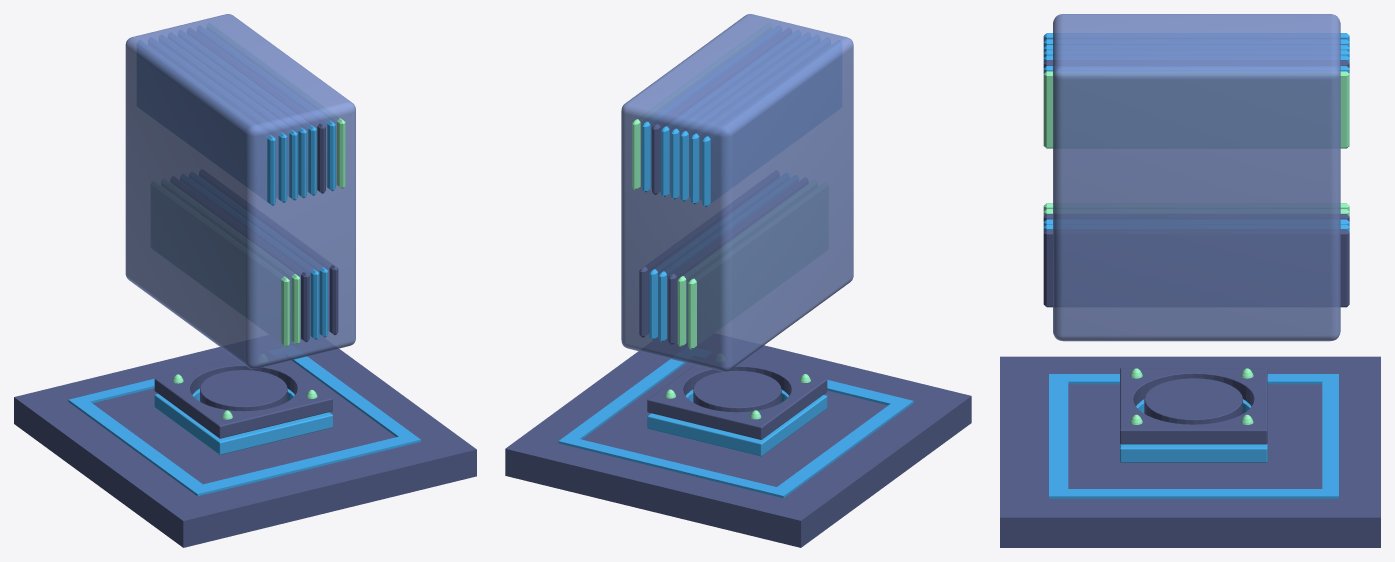
3 renders of one model, left to right at view 1: azimuth 30°, elevation 25°; view 2: azimuth 150°, elevation 25°; view 3: azimuth 270°, elevation 25°, orthographic. The views are drawn at different scales.
Parts seen in each view (by area): view 1: 外机箱, 大底台, 上层, 底部方框, 下层, 立方体.15_12, 立方体.13_12, recta2, 立方体.7_12, 立方体.14_12, 立方体.12_12, 立方体.3_12 (+7 smaller); view 2: 外机箱, 大底台, 上层, 底部方框, 下层, 立方体.7_12, recta2, recta1, 立方体.12_12, 立方体.15_12, 立方体.2_12, 立方体.4_12 (+7 smaller); view 3: 外机箱, 大底台, 上层, 底部方框, 下层, 立方体.15_12, recta3.
Boxes of the visible parts, box(x1,y1,x2,y2) form: 外机箱: box(125, 14, 355, 369); 大底台: box(14, 347, 476, 547); 上层: box(154, 358, 332, 438); 底部方框: box(68, 356, 420, 496); 下层: box(154, 388, 332, 454); 立方体.15_12: box(329, 264, 338, 335); 立方体.13_12: box(310, 269, 319, 339); recta2: box(291, 274, 300, 344); 立方体.7_12: box(278, 132, 287, 202); 立方体.14_12: box(319, 267, 328, 337); 立方体.12_12: box(301, 271, 309, 342); 立方体.3_12: box(317, 123, 325, 193); 外机箱: box(621, 14, 853, 371); 大底台: box(505, 345, 971, 547); 上层: box(647, 359, 827, 439); 底部方框: box(558, 359, 913, 498); 下层: box(647, 389, 827, 456); 立方体.7_12: box(690, 133, 699, 204); recta2: box(677, 276, 686, 346); recta1: box(688, 278, 696, 349); 立方体.12_12: box(668, 273, 676, 344); 立方体.15_12: box(639, 266, 647, 337); 立方体.2_12: box(642, 121, 650, 192); 立方体.4_12: box(661, 126, 669, 197); 外机箱: box(1053, 14, 1340, 341); 大底台: box(1000, 356, 1380, 547); 上层: box(1120, 368, 1267, 444); 底部方框: box(1049, 374, 1338, 498); 下层: box(1120, 399, 1267, 462); 立方体.15_12: box(1043, 229, 1349, 307); recta3: box(1043, 71, 1349, 148).
Size of the model in its own units: 7.99 by 9.86 by 7.99.
